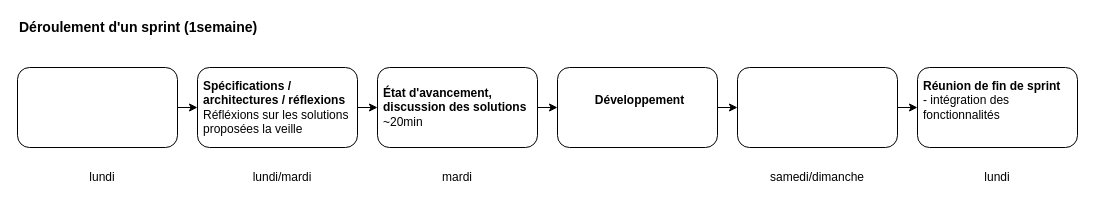
Image size: 1095x204. Some labels were removed from this diagram. Here are the shapes that lost their labels. From the top down, the centre of each, then its label:
the point at 97,107: Réunion de début de sprint - discussion - plannification - partage des tâches
the point at 817,107: Validation - code review - tests
